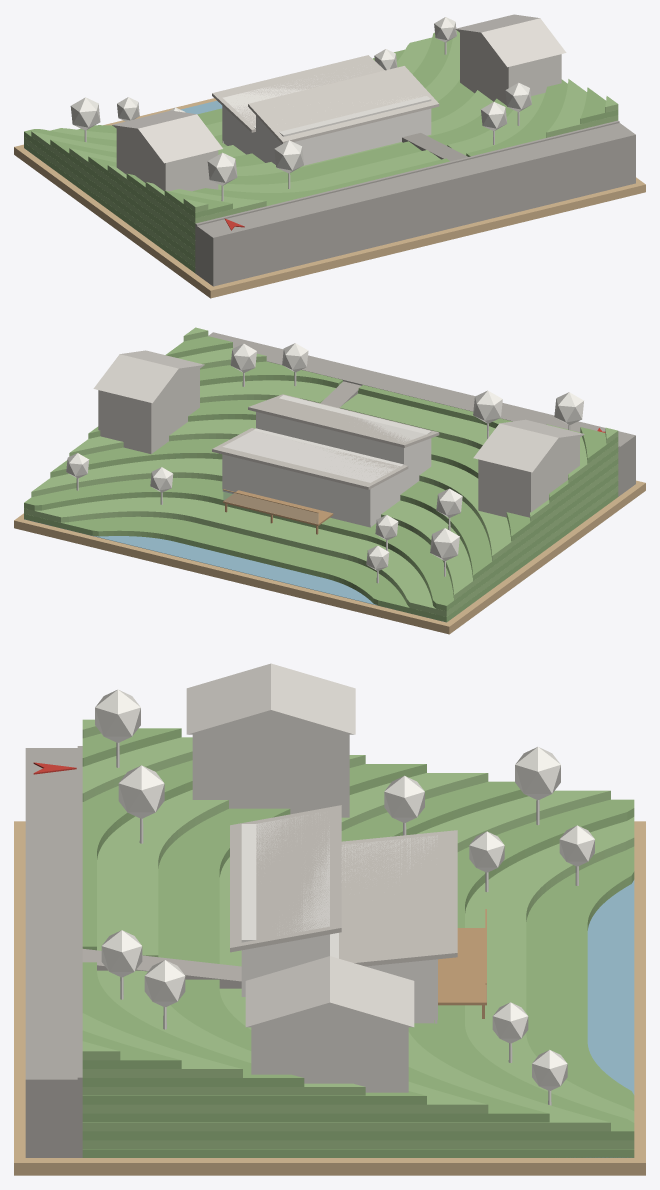
The model's file is house.glb.
3 renders of one model, top to bottom at view 1: azimuth 30°, elevation 25°; view 2: azimuth 150°, elevation 25°; view 3: azimuth 270°, elevation 25°, orthographic. The views are drawn at different scales.
Visible parts, largest first — view 1: STREET, TERRAIN_A, TERRAIN_B, BASE, NEIGHBOUR_E, ROOF_UPPER, NEIGHBOUR_W, TREE_CANOPIES, ROOF_LOWER, WALLS_UPPER, MASS_2_UPPER, MASS_1_BLOCK (+3 smaller); view 2: TERRAIN_A, TERRAIN_B, NEIGHBOUR_E, BASE, NEIGHBOUR_W, TREE_CANOPIES, STREET, MASS_1_BLOCK, MASS_3_LOWER, WATER, MASS_2_LOWER, ROOF_UPPER (+8 smaller); view 3: TERRAIN_A, TERRAIN_B, STREET, NEIGHBOUR_W, BASE, NEIGHBOUR_E, TREE_CANOPIES, ROOF_LOWER, ROOF_UPPER, WATER, DECK, MASS_3_UPPER (+6 smaller).
Boxes of the visible parts, left/top/right/bottom form: STREET: left=195, top=120, right=635, bottom=286; TERRAIN_A: left=24, top=32, right=618, bottom=272; TERRAIN_B: left=24, top=30, right=618, bottom=267; BASE: left=14, top=98, right=645, bottom=298; NEIGHBOUR_E: left=455, top=14, right=566, bottom=105; ROOF_UPPER: left=248, top=66, right=439, bottom=143; NEIGHBOUR_W: left=112, top=110, right=222, bottom=191; TREE_CANOPIES: left=70, top=17, right=531, bottom=201; ROOF_LOWER: left=212, top=55, right=384, bottom=132; WALLS_UPPER: left=256, top=109, right=431, bottom=164; MASS_2_UPPER: left=260, top=96, right=431, bottom=158; MASS_1_BLOCK: left=222, top=107, right=431, bottom=165; TERRAIN_A: left=24, top=336, right=618, bottom=622; TERRAIN_B: left=24, top=327, right=618, bottom=616; NEIGHBOUR_E: left=93, top=350, right=204, bottom=453; BASE: left=14, top=480, right=645, bottom=634; NEIGHBOUR_W: left=473, top=419, right=584, bottom=517; TREE_CANOPIES: left=66, top=343, right=583, bottom=583; STREET: left=208, top=332, right=635, bottom=496; MASS_1_BLOCK: left=222, top=428, right=431, bottom=521; MASS_3_LOWER: left=222, top=430, right=398, bottom=520; WATER: left=24, top=519, right=443, bottom=621; MASS_2_LOWER: left=222, top=454, right=370, bottom=520; ROOF_UPPER: left=248, top=394, right=439, bottom=447; TERRAIN_A: left=82, top=728, right=634, bottom=1157; TERRAIN_B: left=82, top=719, right=634, bottom=1148; STREET: left=25, top=746, right=82, bottom=1157; NEIGHBOUR_W: left=186, top=663, right=355, bottom=817; BASE: left=14, top=821, right=645, bottom=1175; NEIGHBOUR_E: left=245, top=956, right=414, bottom=1092; TREE_CANOPIES: left=95, top=689, right=594, bottom=1105; ROOF_LOWER: left=339, top=830, right=457, bottom=966; ROOF_UPPER: left=230, top=805, right=341, bottom=952; WATER: left=570, top=880, right=634, bottom=1157; DECK: left=438, top=909, right=486, bottom=1018; MASS_3_UPPER: left=241, top=813, right=329, bottom=989.
Size of the model in its own units: 0.824 by 0.2015 by 0.644.
